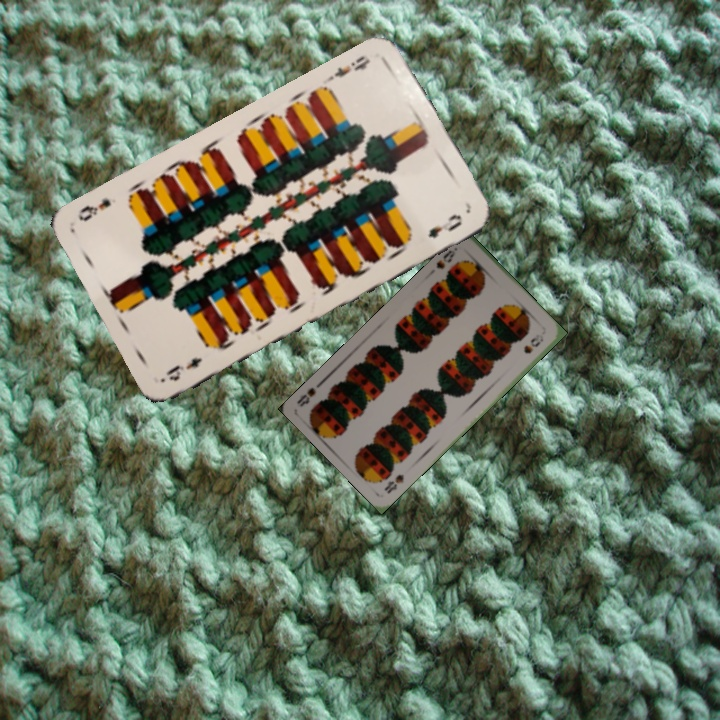E9: (325, 51, 373, 83), (162, 353, 205, 384)
S8: (432, 243, 460, 272), (380, 470, 407, 496)
